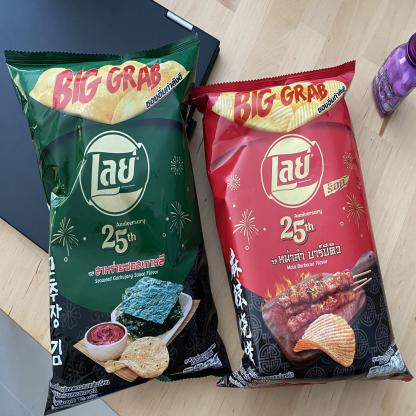potatochip: (4, 34, 234, 415), (188, 59, 414, 384)
